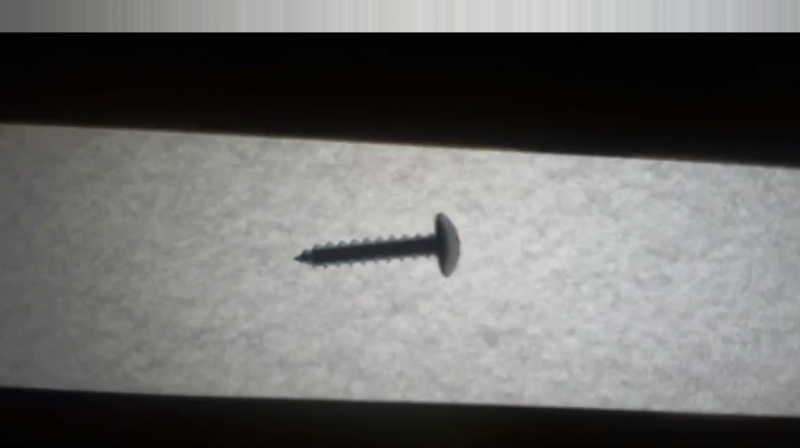S003: (290, 209, 465, 283)
